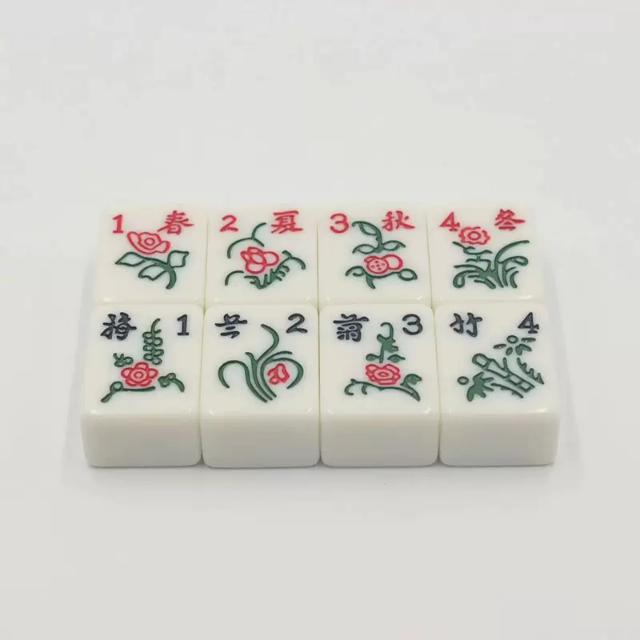f1: (95, 306, 195, 342)
f2: (204, 307, 314, 343)
f3: (321, 312, 432, 342)
f4: (441, 309, 552, 341)
s1: (101, 205, 202, 242)
s2: (211, 210, 315, 238)
s3: (316, 206, 426, 242)
s4: (430, 206, 538, 238)
